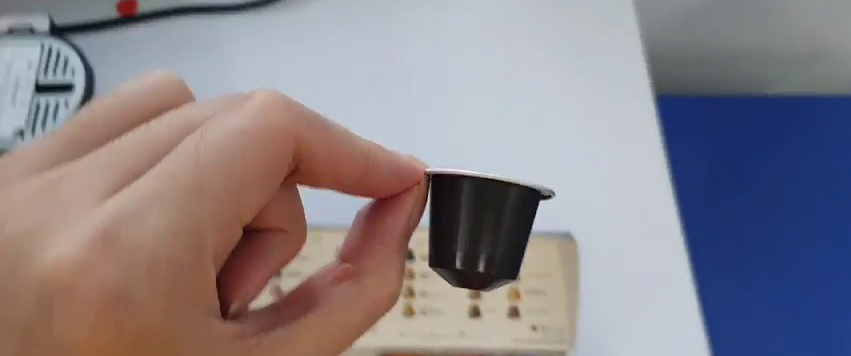capsule_4: (417, 166, 550, 294)
